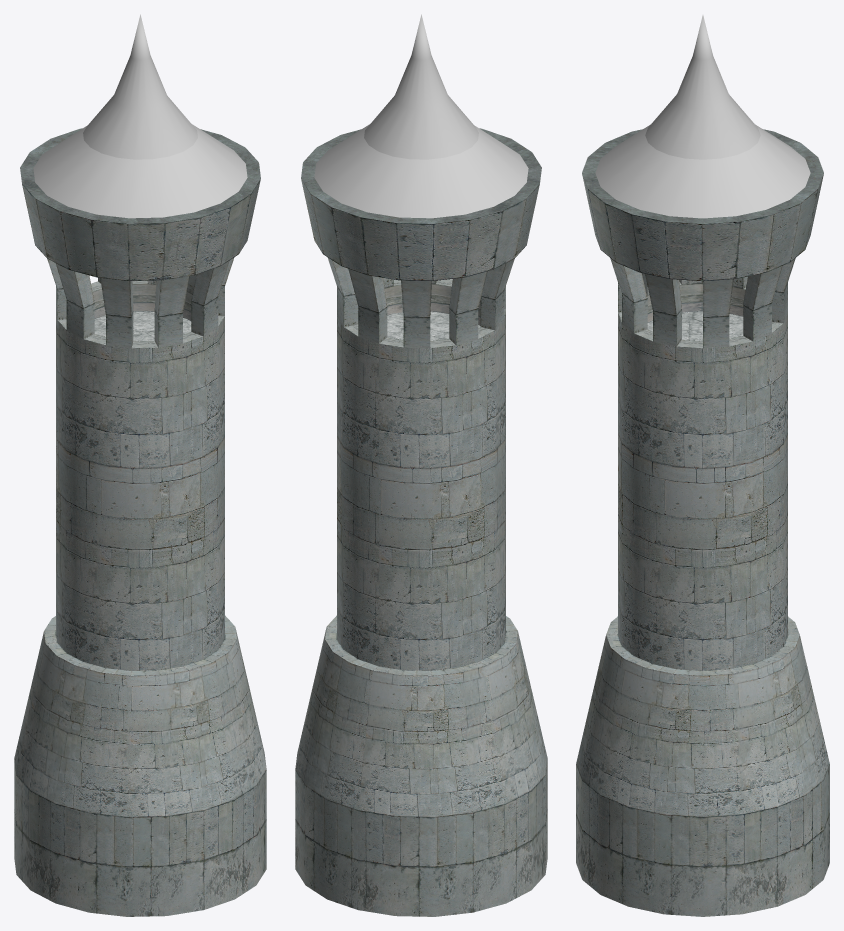
File: DirenniTower.fbx
3 views of the same model, side by side, from view 1: azimuth 30°, elevation 25°; view 2: azimuth 150°, elevation 25°; view 3: azimuth 270°, elevation 25° (orthographic).
Parts seen in each view (by area): view 1: DirenniTower2, DirenniTower1, DirenniTowerRoof, DirenniTowerTop, DirenniTowerFloor; view 2: DirenniTower2, DirenniTower1, DirenniTowerRoof, DirenniTowerTop, DirenniTowerFloor; view 3: DirenniTower2, DirenniTower1, DirenniTowerRoof, DirenniTowerTop, DirenniTowerFloor.
Boxes of the visible parts, x1,y1,x2,y2 form: DirenniTower2: [14, 311, 266, 817]; DirenniTower1: [14, 179, 266, 916]; DirenniTowerRoof: [33, 14, 247, 218]; DirenniTowerTop: [20, 128, 260, 223]; DirenniTowerFloor: [94, 311, 191, 341]; DirenniTower2: [295, 311, 547, 817]; DirenniTower1: [295, 179, 547, 916]; DirenniTowerRoof: [314, 14, 528, 218]; DirenniTowerTop: [301, 128, 541, 223]; DirenniTowerFloor: [387, 311, 480, 340]; DirenniTower2: [576, 313, 829, 817]; DirenniTower1: [576, 174, 829, 916]; DirenniTowerRoof: [595, 15, 810, 218]; DirenniTowerTop: [582, 129, 823, 223]; DirenniTowerFloor: [647, 311, 743, 341].
Bounding box in the file's own units: 54.95 × 203 × 54.95.
